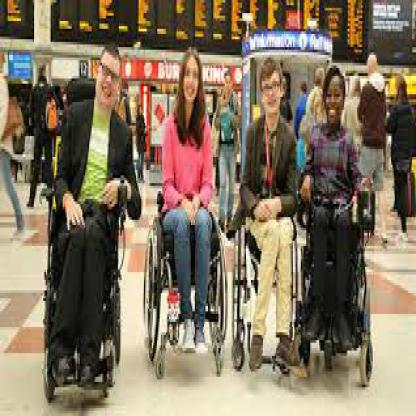wheelchair: (43, 29, 144, 413), (144, 44, 228, 382), (301, 71, 375, 387), (233, 60, 302, 380)
